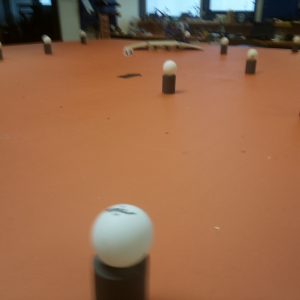obstacle: (93, 198, 151, 300), (160, 59, 179, 95), (245, 48, 259, 77), (41, 33, 54, 57), (219, 36, 230, 57), (291, 36, 300, 56), (78, 28, 87, 44), (184, 29, 193, 41), (1, 44, 4, 62)
side: (148, 43, 180, 53)
slope: (181, 41, 202, 53)
